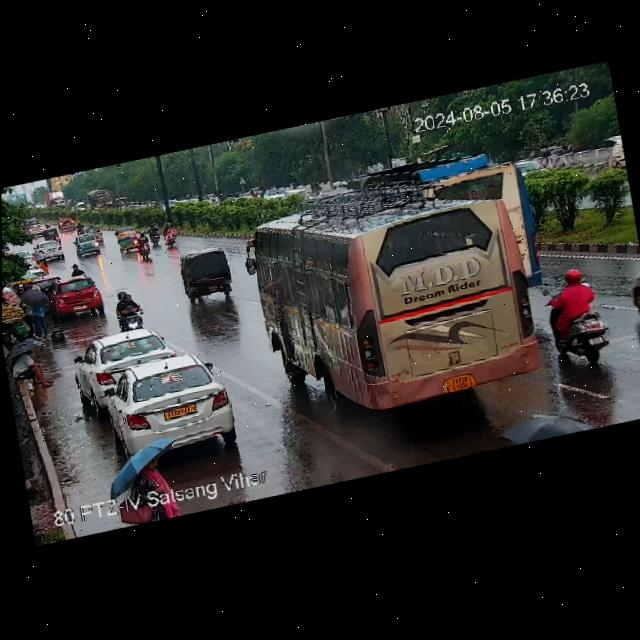bus: (234, 163, 556, 433), (365, 132, 558, 319)
car: (101, 340, 237, 479), (73, 322, 177, 404), (180, 247, 236, 301), (50, 276, 104, 321), (87, 186, 121, 213), (73, 232, 104, 258), (36, 239, 68, 263), (116, 229, 143, 254), (117, 225, 142, 246), (42, 226, 63, 243)
motorcycle: (543, 265, 612, 364), (109, 282, 153, 332), (153, 223, 181, 251), (132, 236, 156, 261)
person: (126, 443, 179, 525), (7, 339, 56, 392)
truck: (43, 190, 67, 212)
